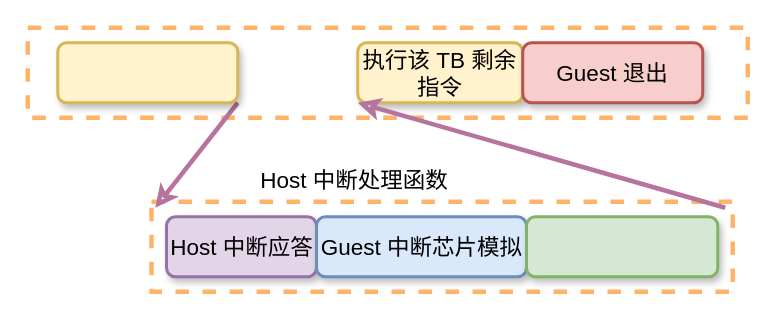
Image size: 776x320. Some labels were removed from this diagram. Each missing label, with the centre of its shape:
"将正在执行的 TB 从 Chain 中断开" belongs at [623,248].
"执行翻译 TB" belongs at [149,74].
